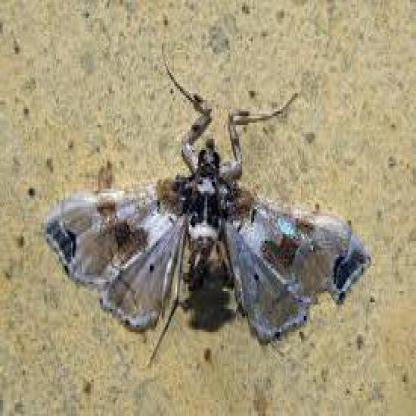leucinodes: (44, 111, 370, 346)
